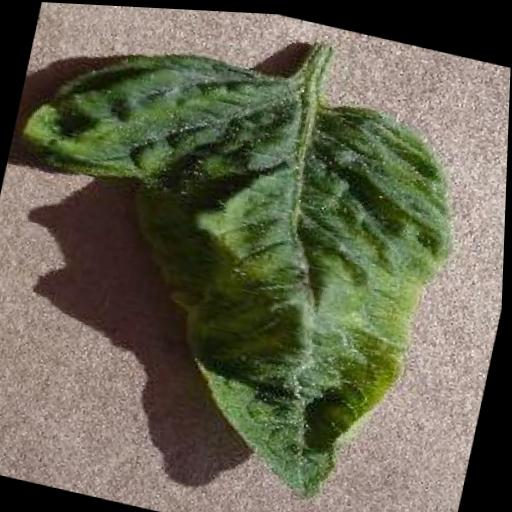Yellow Leaf Curl Virus: (0, 20, 484, 512)
